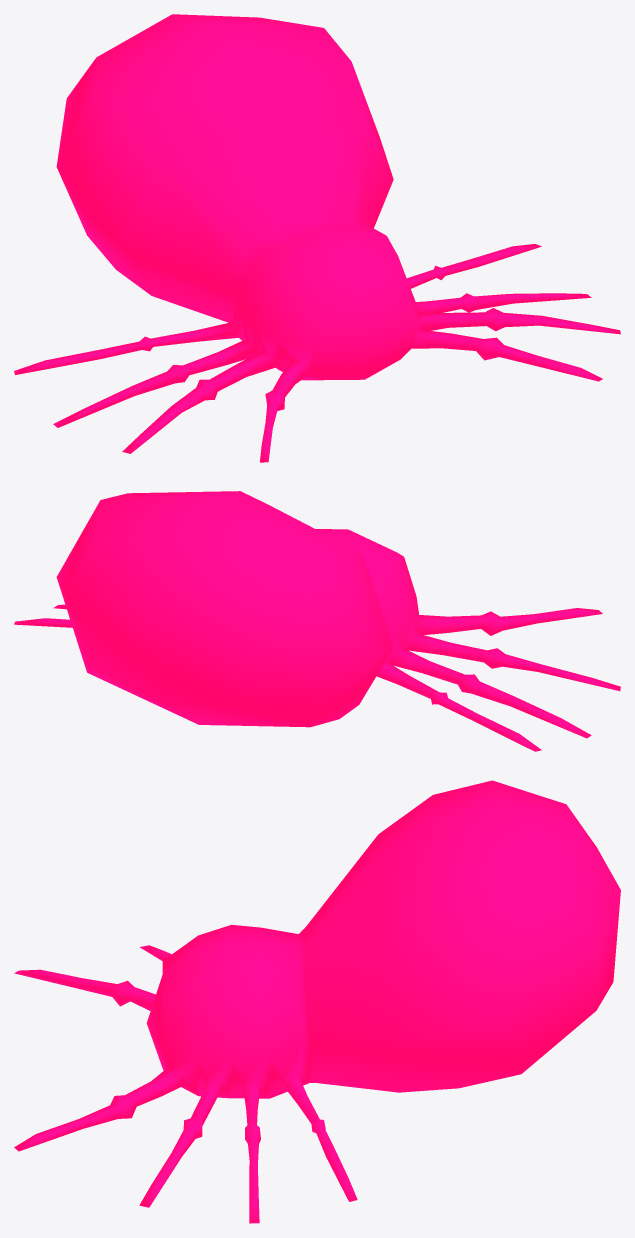
Rendered from arania.FBX.
The picture shows the model from 3 angles, top to bottom: view 1: azimuth 30°, elevation 25°; view 2: azimuth 150°, elevation 25°; view 3: azimuth 270°, elevation 25°; orthographic projection. The views are drawn at different scales.
Visible parts, largest first — view 1: Araña; view 2: Araña; view 3: Araña.
Boxes of the visible parts, bbox=[...] form: Araña: bbox=[14, 14, 620, 462]; Araña: bbox=[14, 491, 620, 751]; Araña: bbox=[14, 780, 620, 1223].
Size of the model in its own units: 112 by 51.64 by 102.
